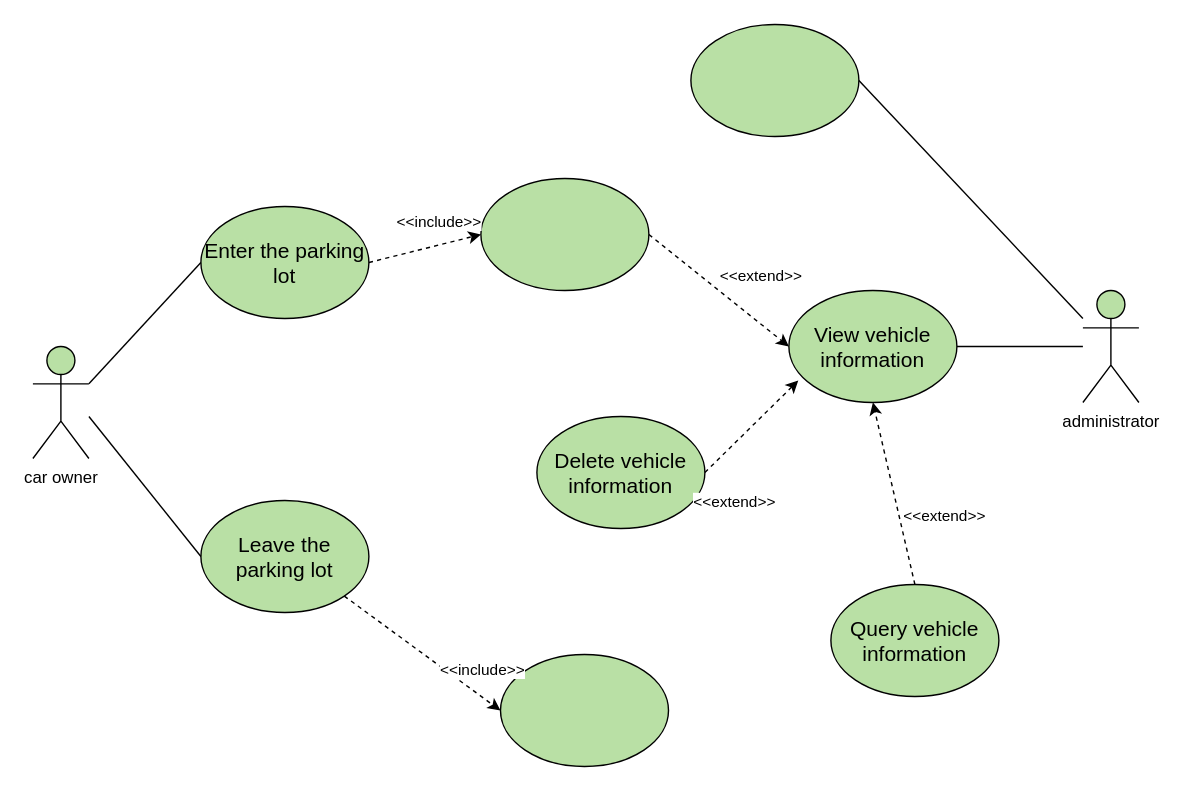
Image size: 1183x791. Some labels were removed from this diagram. The box of each missing label's shape, as (x1, y1, x2, y2) in pixels:
Add vehicle information: (479, 177, 649, 290)
log in system: (690, 23, 859, 136)
Pay the fee: (499, 653, 668, 766)
